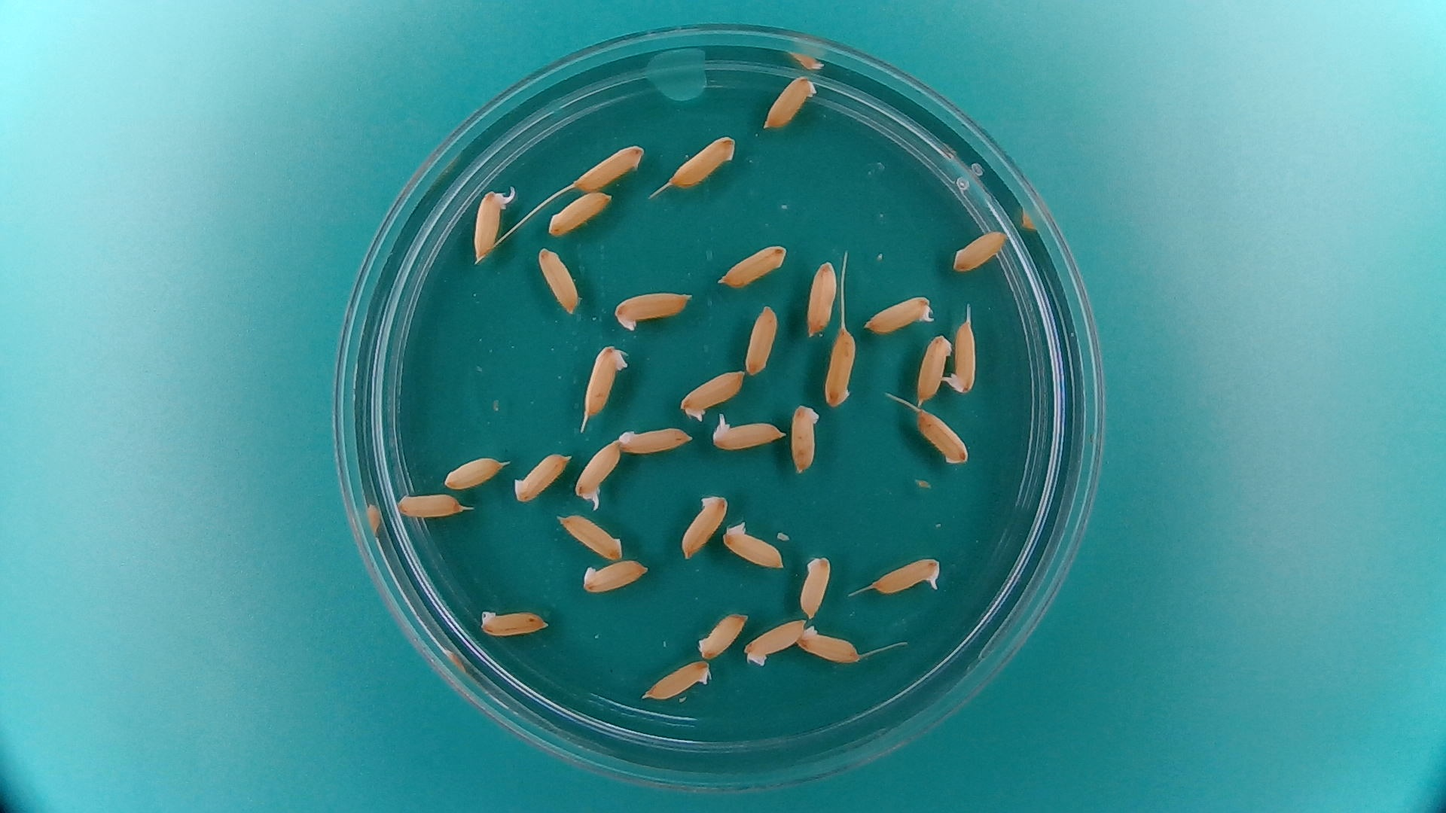no: (666, 130, 740, 190), (578, 340, 630, 422), (609, 285, 696, 334), (569, 141, 646, 193), (677, 488, 731, 562), (911, 410, 972, 475), (677, 365, 746, 421), (716, 241, 791, 291), (719, 517, 787, 571), (760, 71, 819, 132), (509, 448, 572, 504), (545, 188, 615, 238), (741, 614, 807, 667), (638, 656, 714, 702), (555, 510, 624, 560), (535, 242, 581, 315), (821, 325, 857, 410), (913, 330, 953, 405), (803, 257, 839, 339), (743, 302, 781, 379), (578, 556, 652, 595), (795, 622, 862, 665), (950, 226, 1011, 273), (694, 609, 749, 660), (475, 603, 552, 639), (616, 422, 694, 457), (441, 452, 509, 491), (796, 550, 833, 620), (392, 486, 468, 520), (788, 400, 822, 475)
yes: (471, 181, 520, 264), (572, 434, 623, 510), (942, 311, 982, 397), (861, 291, 937, 336), (867, 553, 944, 597), (708, 411, 788, 452)
